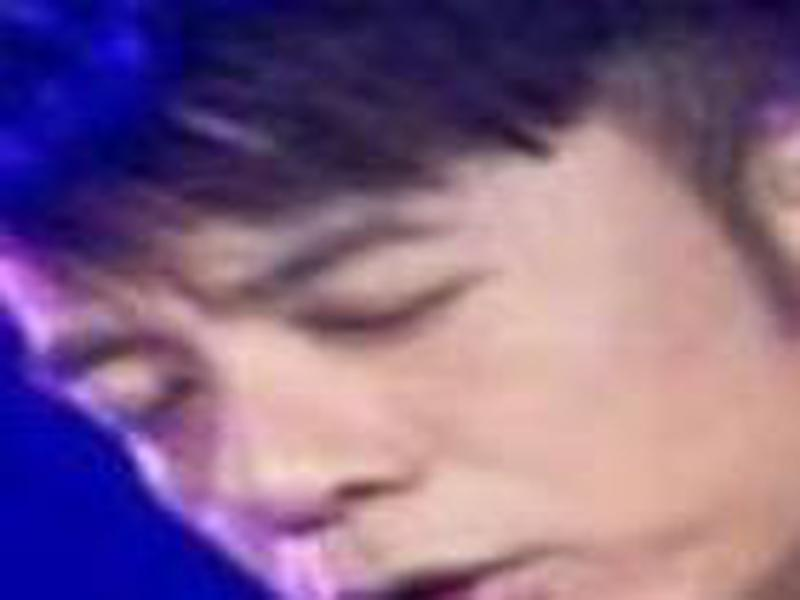without_mask: (4, 133, 800, 600)
